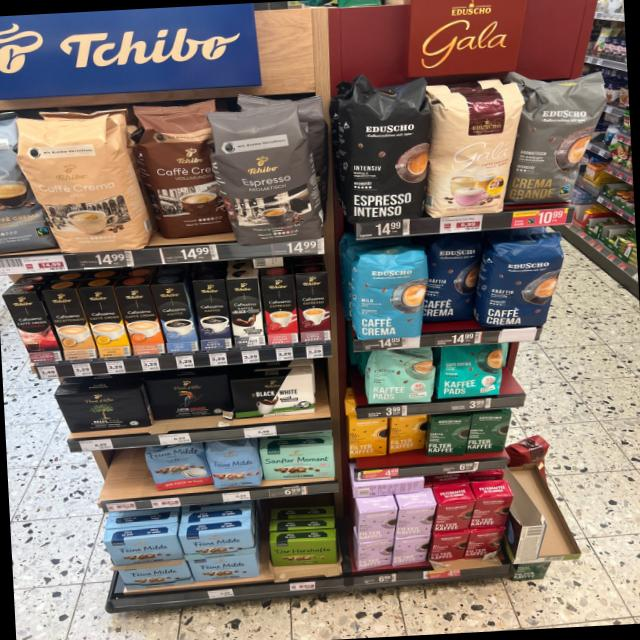BM Gemahlen: (52, 386, 152, 434)
BW Gemahlen: (231, 373, 319, 420)
CC Mild: (15, 114, 147, 257)
CC Vollmundig 36 Pads: (128, 100, 230, 241)
Espresso Aromatisch: (203, 106, 324, 247)
FM 36 Pads: (142, 444, 212, 492)
FM Bohne: (205, 440, 262, 490)
FM Gemahlen: (105, 534, 186, 567), (181, 527, 256, 561), (119, 561, 195, 592), (187, 554, 261, 584)
Herzhatfe Mundig: (268, 538, 338, 568)
LG Gemahlen: (146, 375, 232, 423)
SM Gemahlen: (260, 444, 338, 482)
Simo CC Colombia: (3, 293, 65, 364)
Simo CCMild bigpack: (79, 286, 132, 358)
Simo CCVollmundig bigpack: (115, 286, 167, 355)
Simo Decaff: (42, 289, 99, 361)
Simo Es Brazil: (262, 275, 298, 344)
Simo Es Caramel: (298, 272, 330, 342)
Simo Es Elegant: (226, 277, 265, 348)
Simo Es Kraft: (194, 279, 233, 349)
Simo Es Vanilla: (153, 284, 198, 353)
